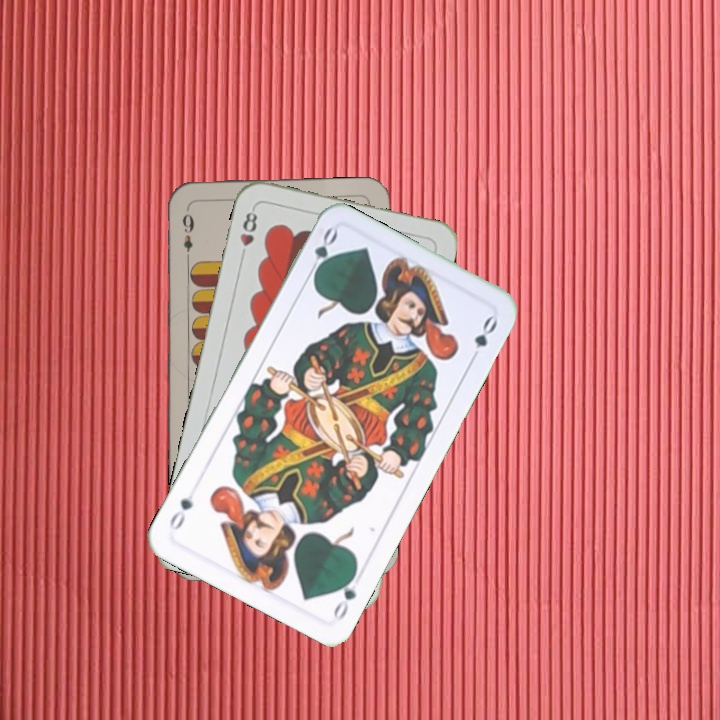E9: (178, 205, 197, 264)
GO: (303, 224, 341, 282), (329, 566, 360, 624)
H8: (236, 204, 260, 262)
